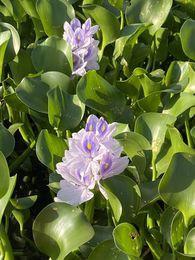water_hyacinth: (1, 0, 195, 259)
